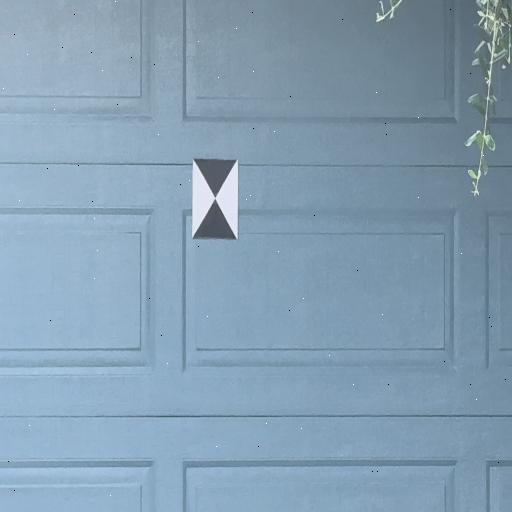target: (192, 159, 239, 240)
